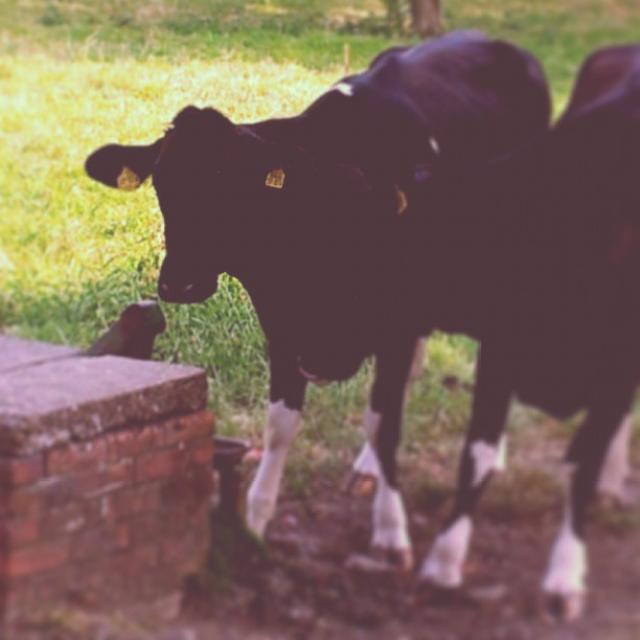cow: (84, 26, 551, 578), (419, 47, 639, 618)
